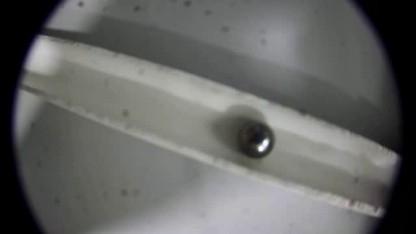gangzhu: (236, 121, 276, 159)
